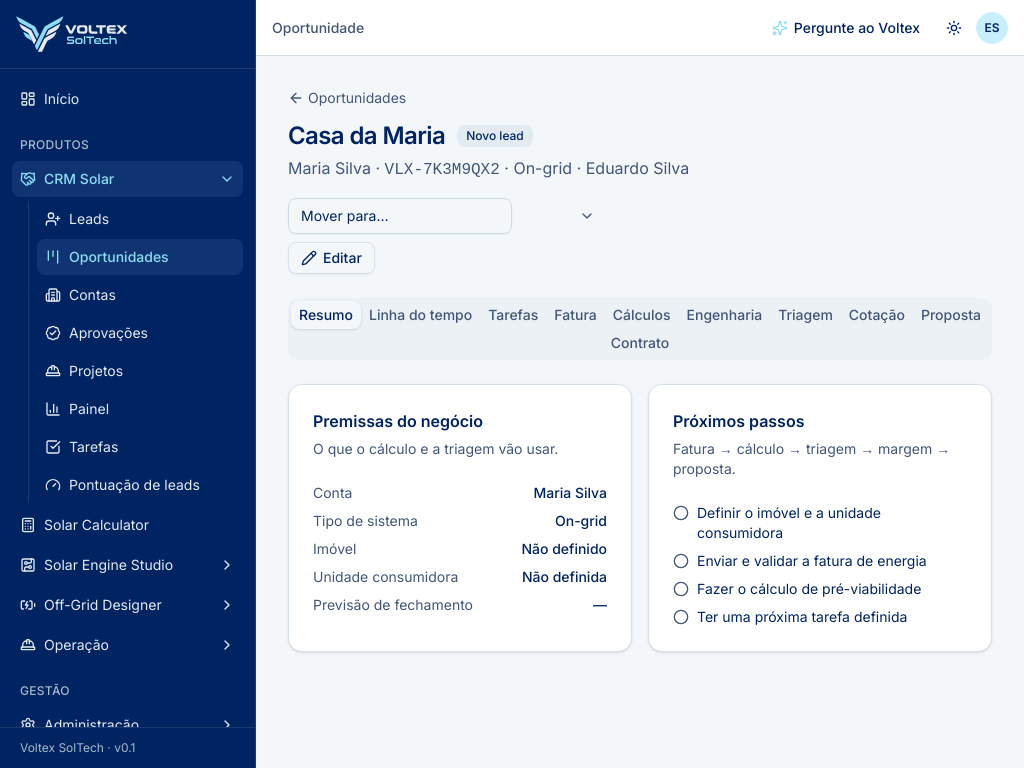
Test: Oportunidade · Linha do tempo › adiciona uma nota e a lista se atualiza
The image size is (1024, 768).
Click the tab "Linha do tempo" at (421, 315), box [361,301,480,329]
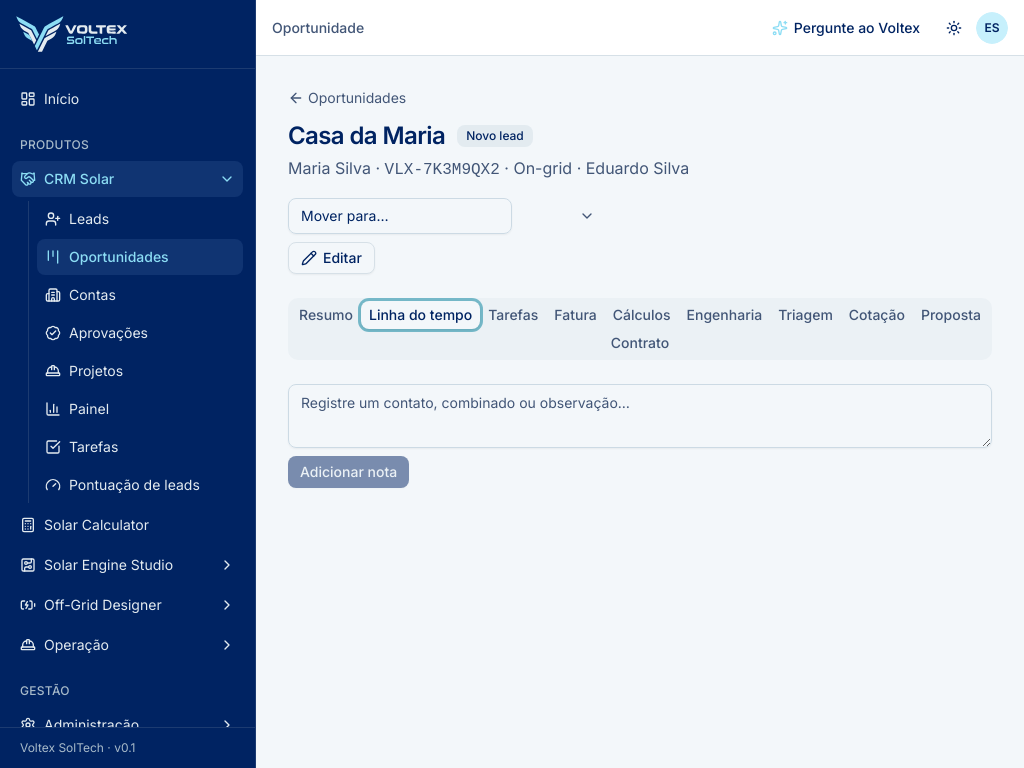
Expected: the button "Adicionar nota" is disabled, [288,456,409,488]
Type "Cliente pediu retorno na sexta" into the text box named "Nova nota" at (640, 416), box [288,384,992,448]
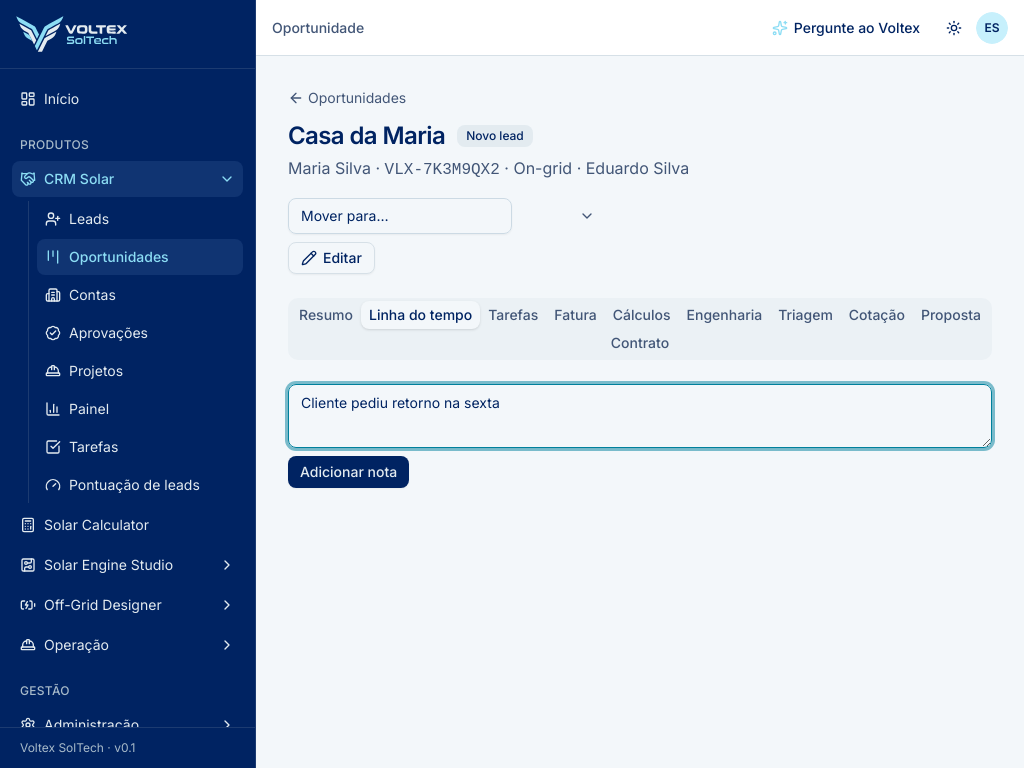
Click the button "Adicionar nota" at (349, 472), box [288,456,409,488]
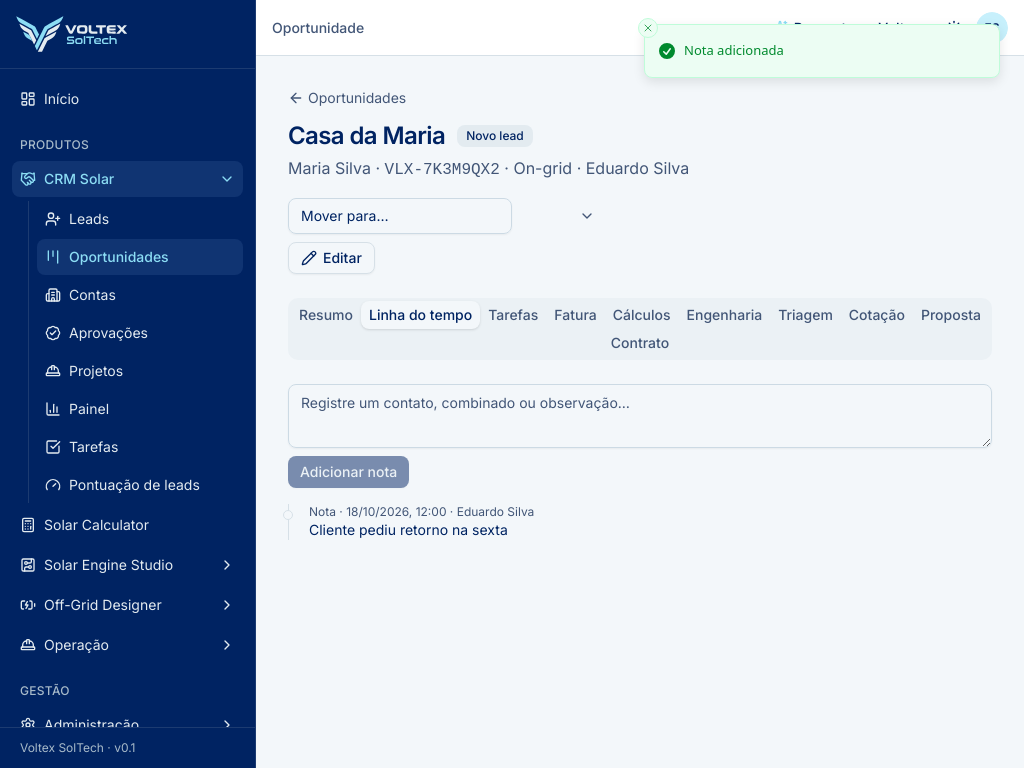
Expected: the text "Cliente pediu retorno na sexta" is shown, [309,521,508,538]
Expected: the text box named "Nova nota" is empty, [288,384,992,448]
